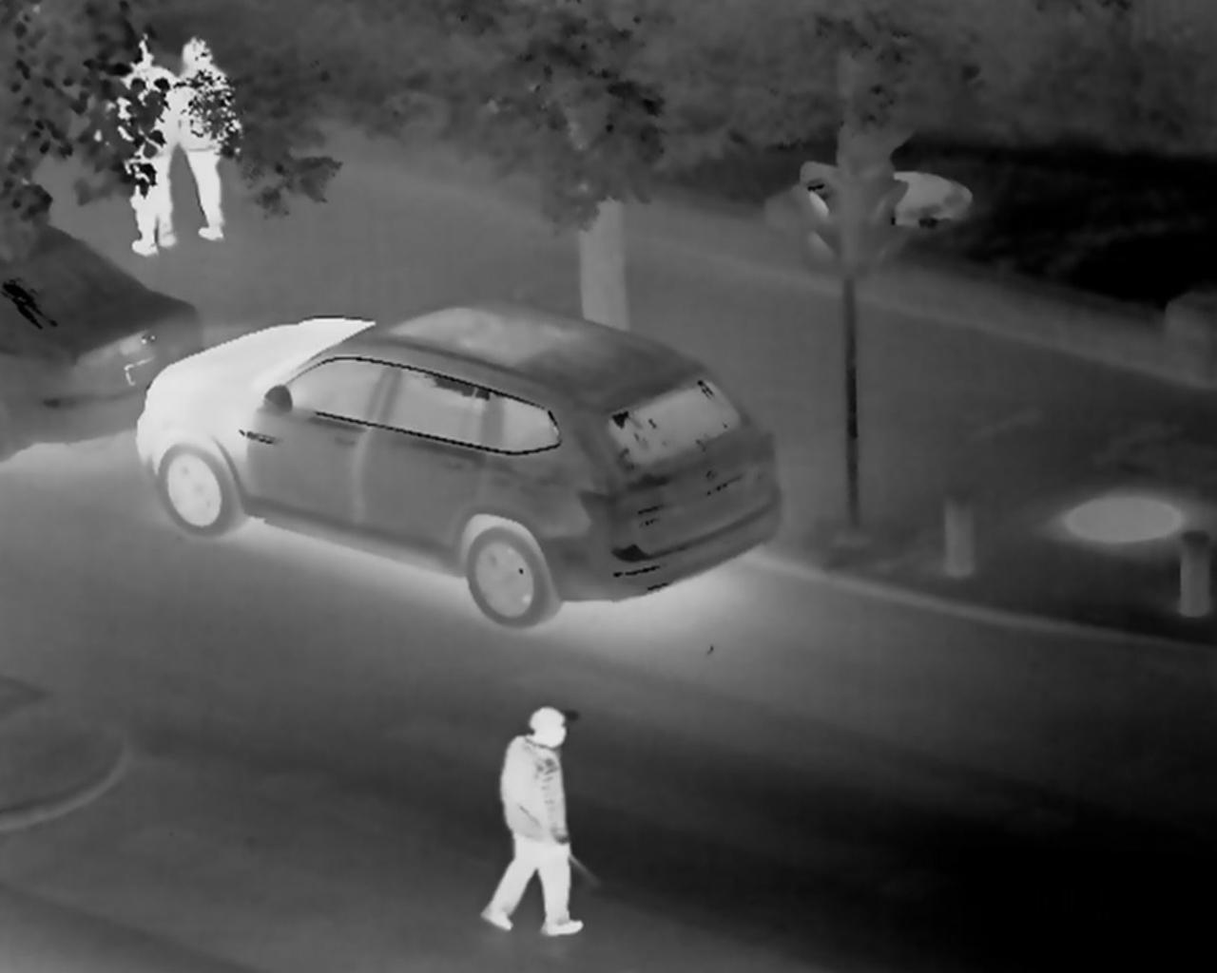person: (474, 689, 618, 933), (126, 40, 189, 268), (191, 39, 248, 239)
